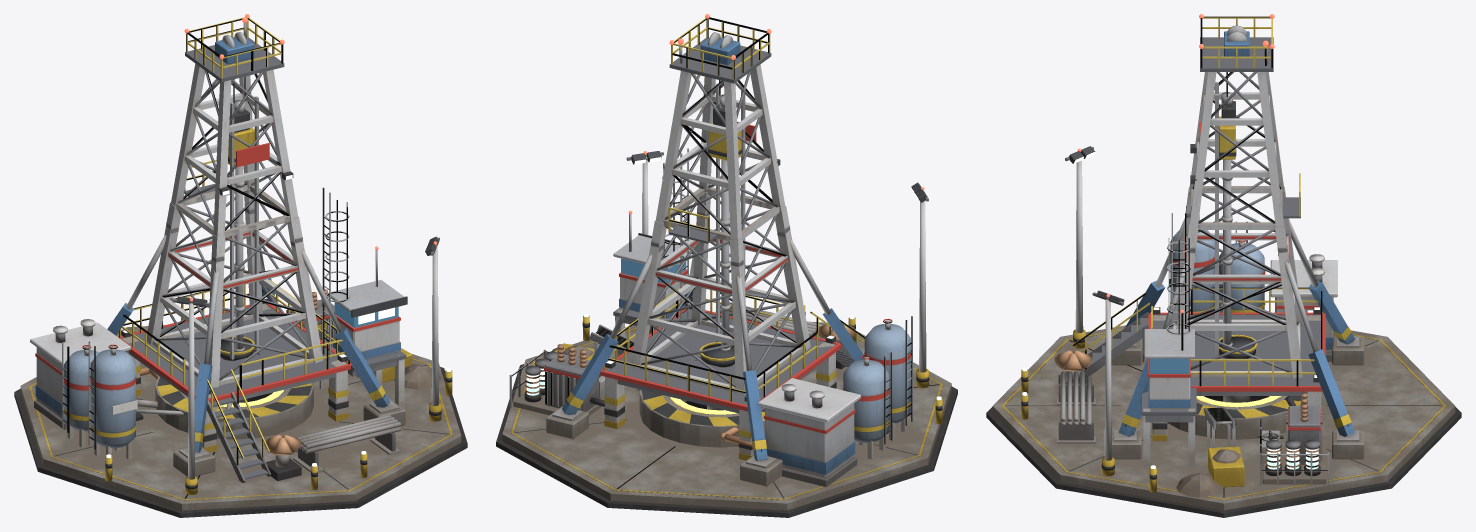
Rendered from deep_core_mine.glb.
3 views of the same model, side by side, from view 1: azimuth 30°, elevation 25°; view 2: azimuth 150°, elevation 25°; view 3: azimuth 270°, elevation 25° (orthographic).
Parts seen in each view (by area): view 1: Build0Body, Build3Body, Build2Body, Build4Body, Build5Body, Tanks0Body, Build12Body, Build1Body, Build8Body, OptRackBody, MastsBody, Tanks1Body (+3 smaller); view 2: Build0Body, Build3Body, Build4Body, Build2Body, Build8Body, Build5Body, Build9Body, Build1Body, Tanks1Body, Tanks0Body, Build12Body, MastsBody (+3 smaller); view 3: Build0Body, Build2Body, Build3Body, Build4Body, Build5Body, Build9Body, Build12Body, Build1Body, MastsBody, OptRackBody, Build11Body, DrillBody (+3 smaller).
Boxes of the visible parts, <box> form: Build0Body: <box>14,325,467,517</box>; Build3Body: <box>147,96,349,387</box>; Build2Body: <box>118,279,406,482</box>; Build4Body: <box>171,14,298,237</box>; Build5Body: <box>107,209,405,476</box>; Tanks0Body: <box>88,341,136,459</box>; Build12Body: <box>327,246,407,359</box>; Build1Body: <box>155,376,313,439</box>; Build8Body: <box>30,319,158,429</box>; OptRackBody: <box>264,414,400,480</box>; MastsBody: <box>172,236,441,494</box>; Tanks1Body: <box>62,342,99,447</box>; Build0Body: <box>496,303,957,517</box>; Build3Body: <box>630,83,810,394</box>; Build4Body: <box>655,14,785,240</box>; Build2Body: <box>600,284,864,460</box>; Build8Body: <box>720,378,860,487</box>; Build5Body: <box>546,212,864,486</box>; Build9Body: <box>509,344,604,415</box>; Build1Body: <box>639,389,764,447</box>; Tanks1Body: <box>843,352,891,459</box>; Tanks0Body: <box>864,316,912,440</box>; Build12Body: <box>613,210,693,318</box>; MastsBody: <box>626,151,929,388</box>; Build0Body: <box>986,325,1461,517</box>; Build2Body: <box>1072,287,1325,466</box>; Build3Body: <box>1167,82,1302,378</box>; Build4Body: <box>1189,14,1283,227</box>; Build5Body: <box>1111,206,1364,459</box>; Build9Body: <box>1260,393,1329,485</box>; Build12Body: <box>1142,309,1194,408</box>; Build1Body: <box>1167,396,1301,439</box>; MastsBody: <box>1065,146,1124,476</box>; OptRackBody: <box>1054,350,1095,443</box>; Build11Body: <box>1176,407,1244,497</box>; DrillBody: <box>1219,72,1236,346</box>.
Bounding box in the file's own units: 14.8 × 13.36 × 14.8.
27 materials, 17 textured.
